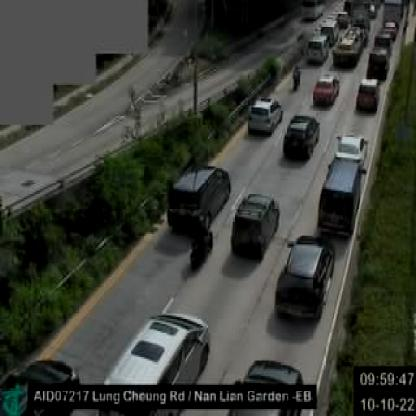Car: (93, 309, 210, 405), (276, 236, 334, 324), (5, 349, 83, 411), (223, 357, 308, 410), (166, 165, 230, 231), (230, 191, 278, 254), (283, 112, 320, 160), (246, 95, 283, 134), (307, 25, 334, 66), (311, 71, 341, 105), (354, 74, 380, 110), (367, 47, 392, 78), (373, 30, 392, 49)
Truck: (315, 139, 368, 246), (332, 20, 366, 67)
